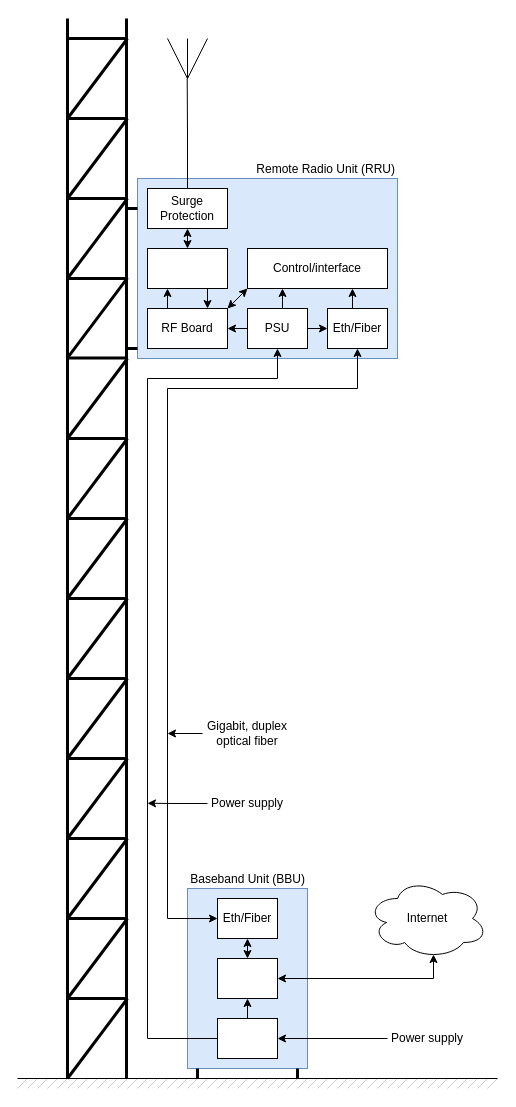
Image size: 516x1107. Some labels were removed from this diagram. The shapes that lost their labels are listed below. From the top down, each one's centre as x and y in pixels, then its label:
At [187,268]: "Duplexer".
At [247,978]: "Server".
At [247,1038]: "Power Mgmt".
